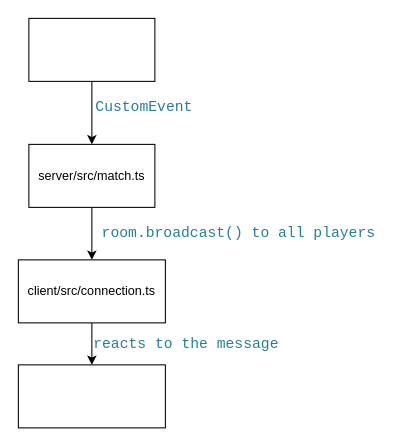
The diagram is 394 pixels wide and 446 high, and some of its shapes have lost their labels. The centre of each missing label's shape, as x and y in pixels:
"client/src/main.ts" belongs at [91,396].
"shared/sim/world.ts" belongs at [91,49].
